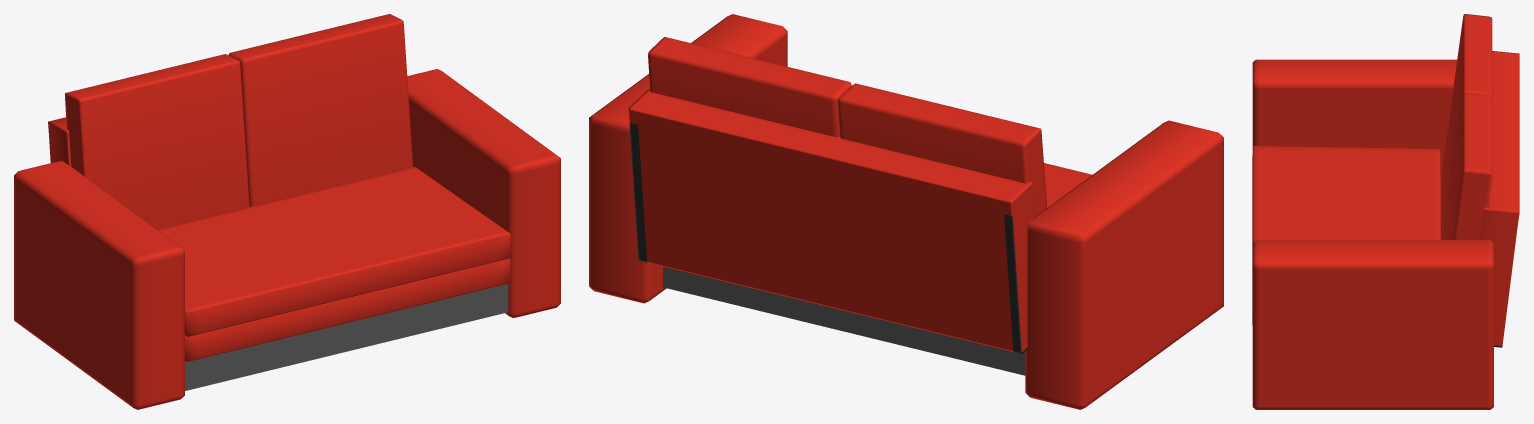
The picture shows the model from 3 angles, left to right: view 1: azimuth 30°, elevation 25°; view 2: azimuth 150°, elevation 25°; view 3: azimuth 270°, elevation 25°; orthographic projection. The views are drawn at different scales.
Visible parts, largest first — view 1: Cube.003, Cube.010, Cube.005, Cube.004, Cube.002, Cube.011; view 2: Cube.011, Cube.003, Cube.010, Niz, Cube.005; view 3: Cube.003, Cube.005, Cube.010, Cube.011.
Part boxes in pixels (x1=…): Cube.003: x1=14, y1=69, x2=560, y2=409; Cube.010: x1=65, y1=14, x2=413, y2=229; Cube.005: x1=157, y1=166, x2=510, y2=336; Cube.004: x1=185, y1=284, x2=508, y2=390; Cube.002: x1=185, y1=258, x2=510, y2=361; Cube.011: x1=48, y1=117, x2=71, y2=166; Cube.011: x1=628, y1=89, x2=1034, y2=353; Cube.003: x1=589, y1=14, x2=1223, y2=409; Cube.010: x1=648, y1=37, x2=1046, y2=216; Niz: x1=663, y1=266, x2=1025, y2=375; Cube.005: x1=1044, y1=163, x2=1092, y2=207; Cube.003: x1=1252, y1=59, x2=1493, y2=409; Cube.005: x1=1252, y1=146, x2=1440, y2=324; Cube.010: x1=1441, y1=14, x2=1492, y2=239; Cube.011: x1=1479, y1=51, x2=1519, y2=347.
Size of the model in its own units: 2.55 by 1.26 by 1.4.
